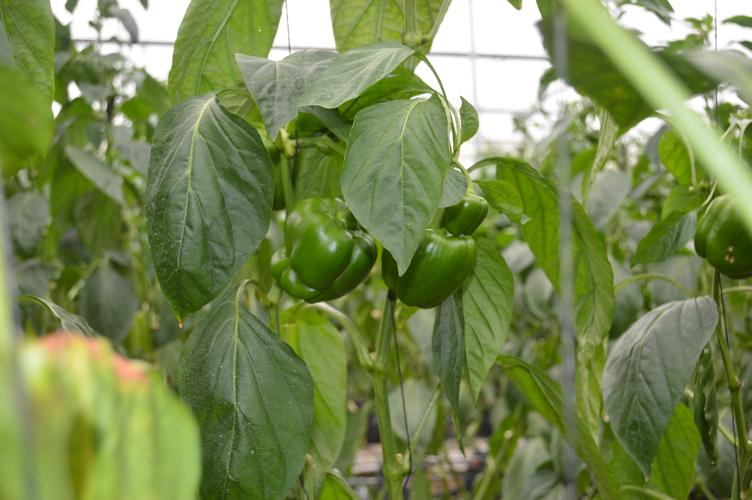BellPepper: (262, 194, 364, 308), (373, 212, 477, 318), (687, 176, 752, 288), (443, 180, 494, 237)
